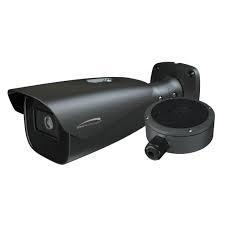tutu: (7, 60, 216, 167)
